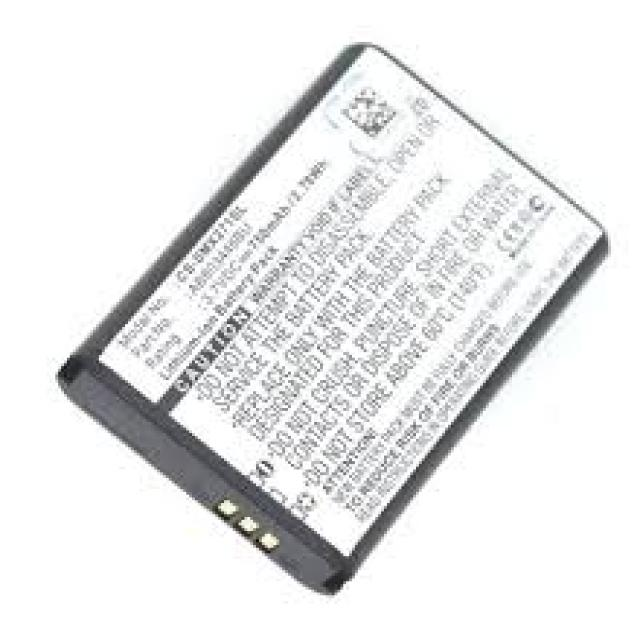non-organic waste: (57, 36, 609, 596)
